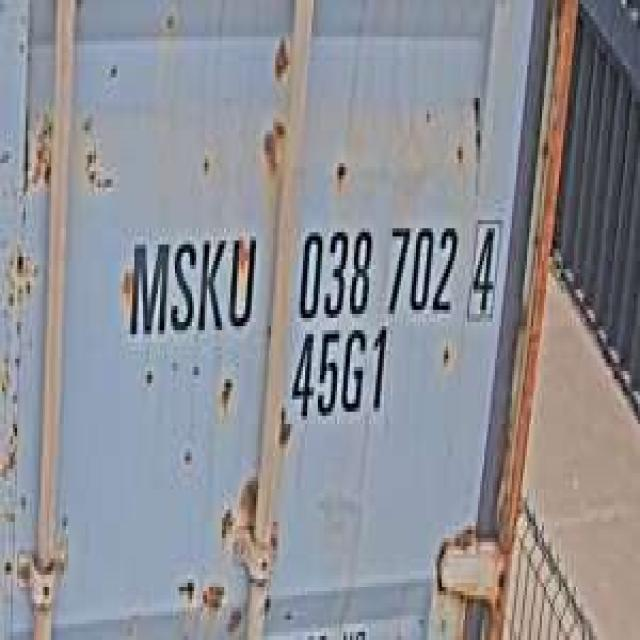dv: (463, 204, 503, 330)
owner: (115, 216, 260, 347)
serial: (292, 212, 459, 322)
size: (286, 322, 395, 428)
